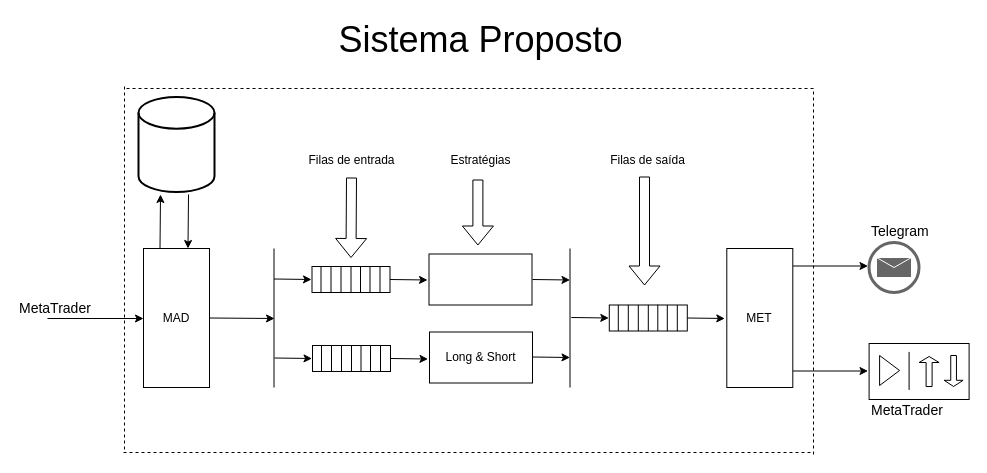
Some shapes in this 987 by 473 pixel diagram are drawn without their labels. The box of each missing label's shape, as (x1, y1, x2, y2) in pixels:
Bollinger Bands: (428, 253, 532, 305)
Histórico: (137, 96, 215, 192)
